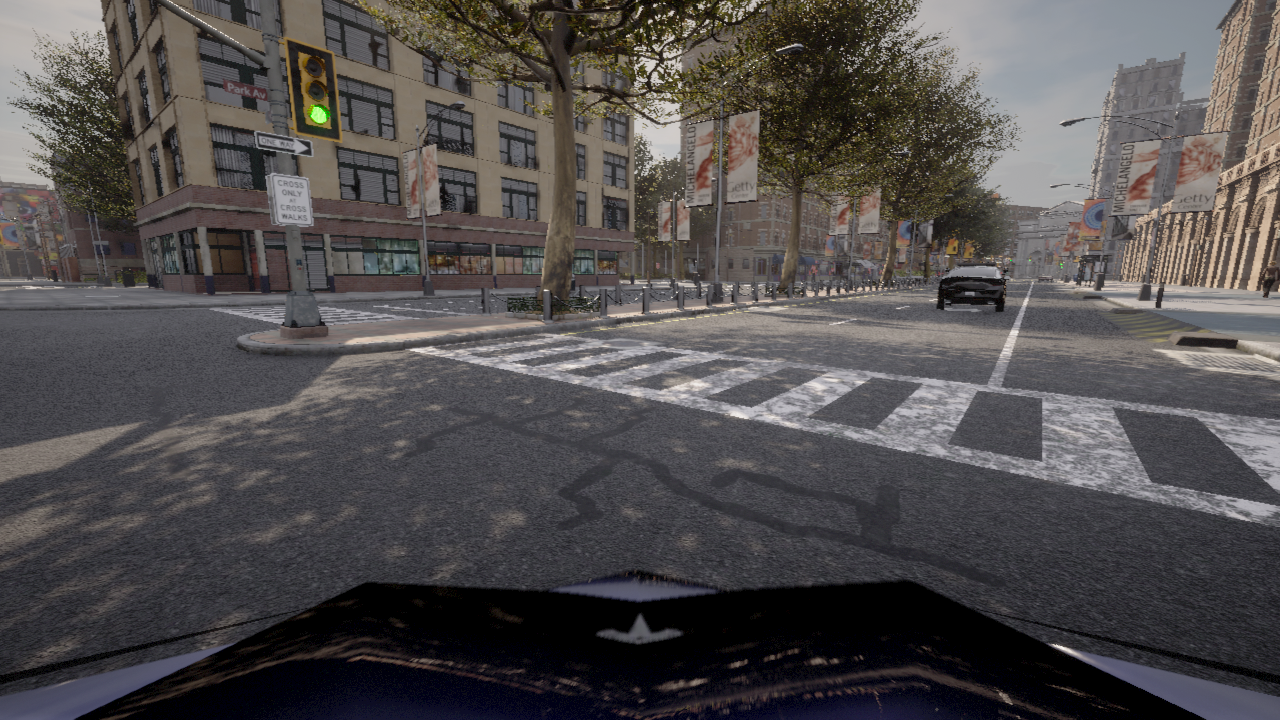cyclist: (0, 569, 1279, 719), (937, 262, 1010, 311), (1038, 274, 1052, 281)
pedestrian: (1260, 261, 1279, 297)
